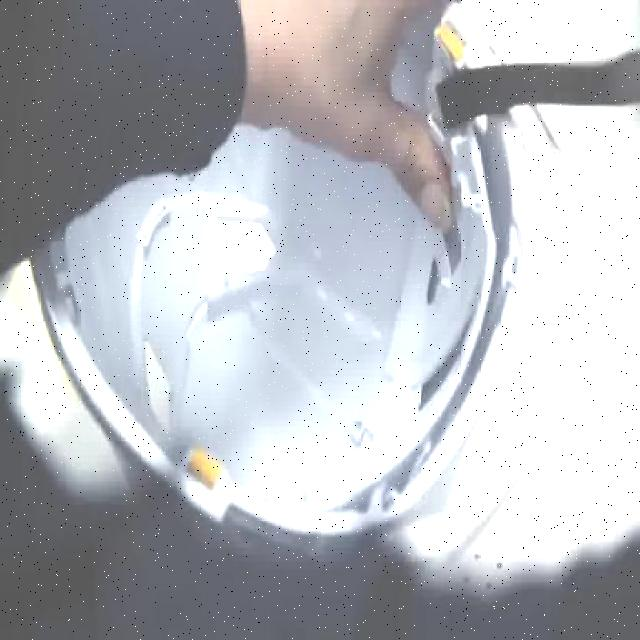Helmet: (29, 0, 596, 572)
